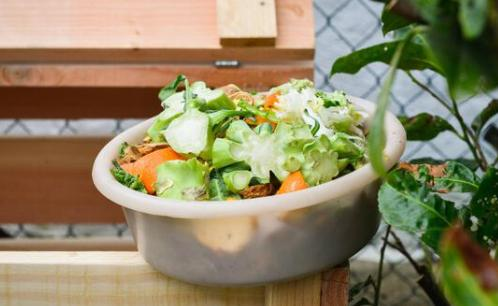organic: (113, 72, 383, 203)
